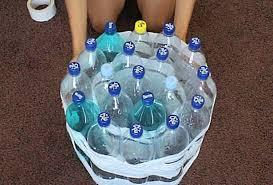Plastic bottle: (84, 112, 122, 157), (170, 35, 210, 75), (62, 92, 100, 130), (158, 76, 188, 122), (122, 123, 158, 161), (56, 64, 95, 96), (132, 94, 166, 130), (123, 20, 153, 58), (182, 70, 220, 100), (158, 113, 186, 152), (103, 82, 133, 118), (118, 68, 152, 98), (183, 95, 208, 135), (96, 22, 126, 54), (144, 50, 176, 80), (156, 22, 180, 56), (74, 42, 102, 70), (92, 64, 116, 92), (116, 40, 140, 66)
